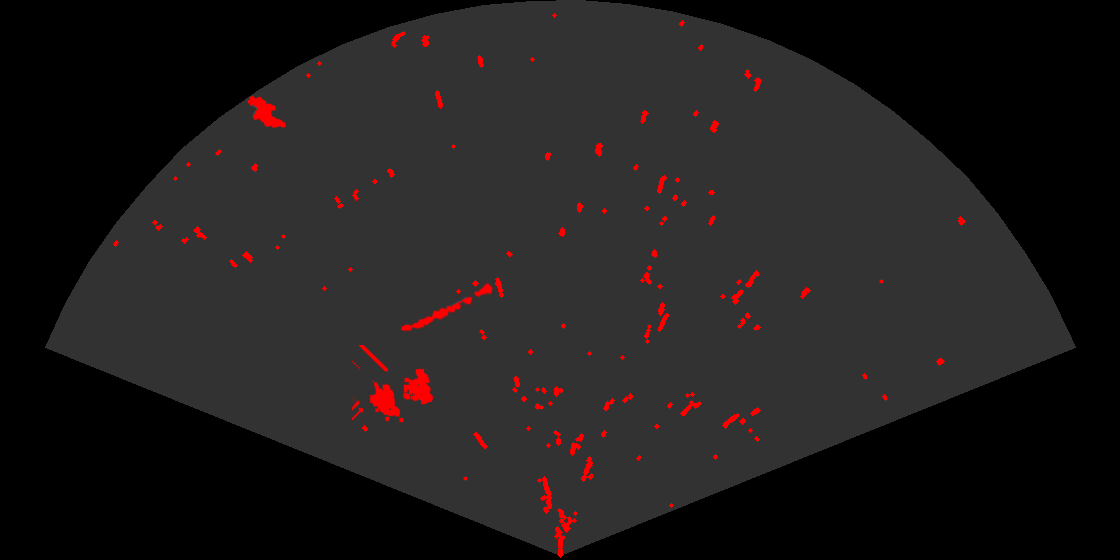AUV: (246, 94, 288, 130)
cage: (352, 345, 435, 424)
chain: (399, 281, 494, 333)
